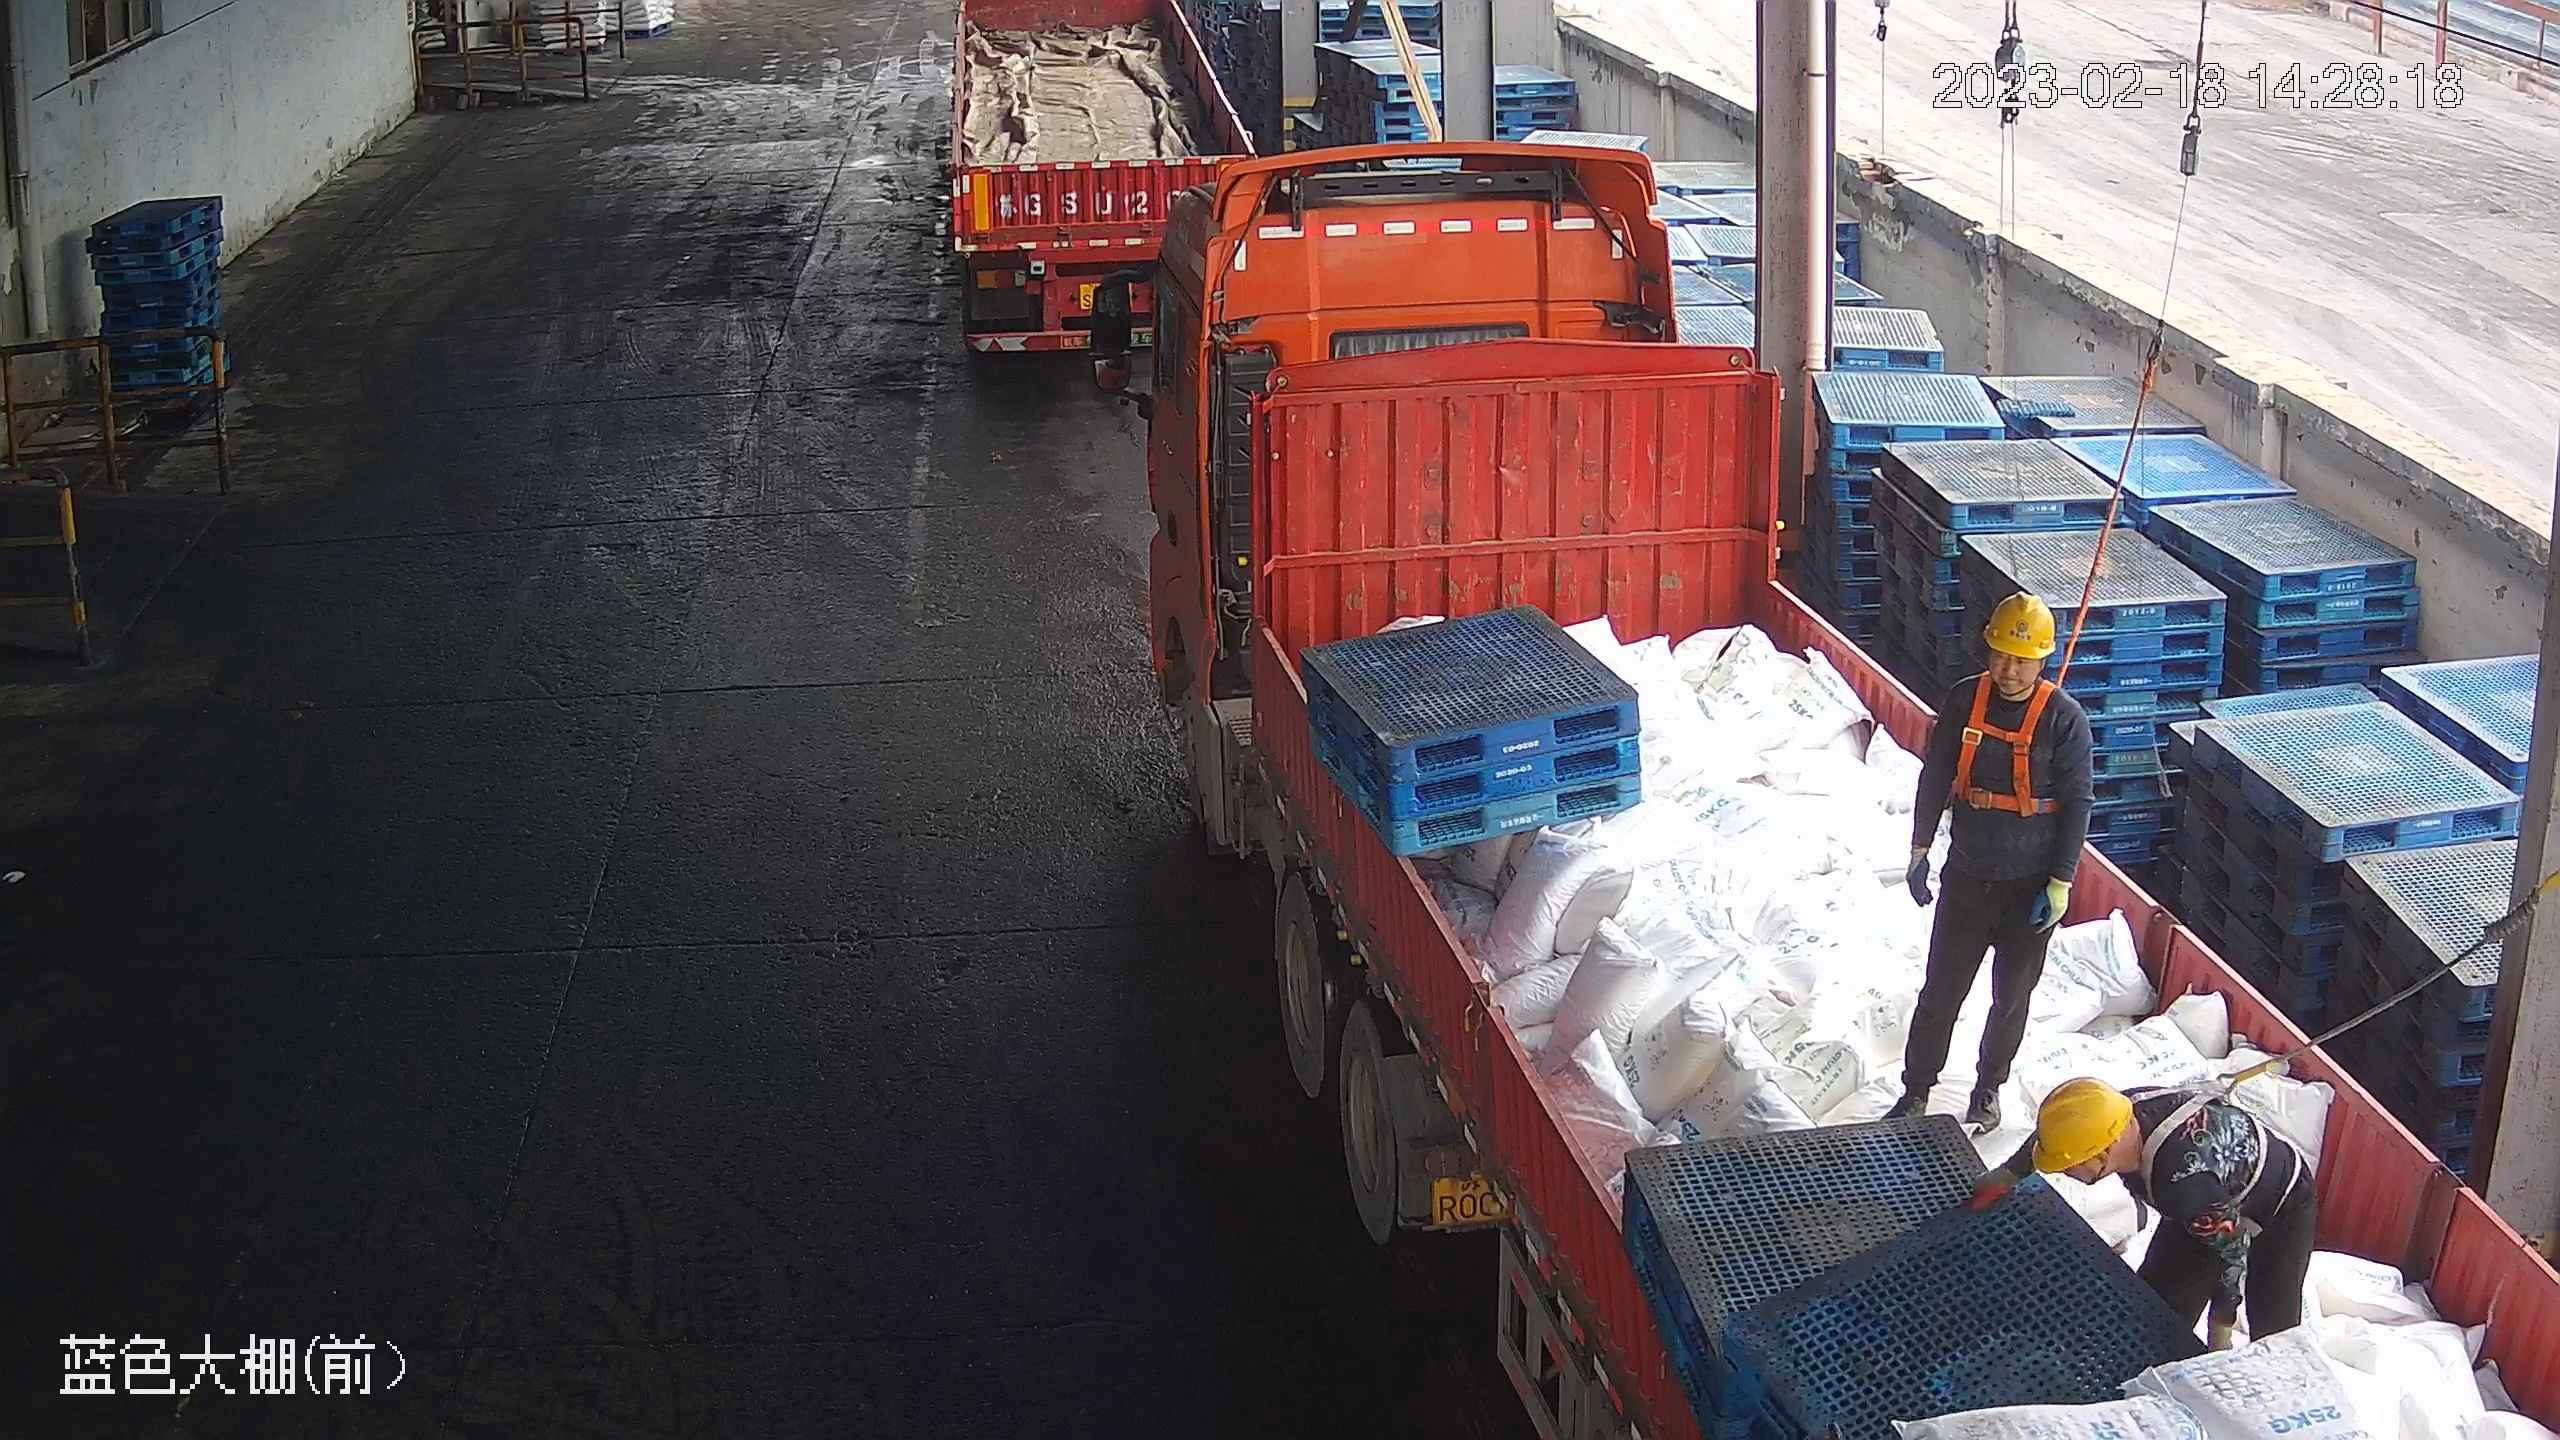belt: (2134, 1069, 2274, 1221), (1952, 663, 2067, 815)
head: (1928, 587, 2089, 752), (2032, 1077, 2226, 1213)
helmet: (2031, 1074, 2131, 1176), (1982, 587, 2059, 660)
people: (1883, 585, 2093, 1142), (1971, 1075, 2319, 1362)
truck: (1076, 150, 2551, 1439), (948, 1, 1259, 355)
